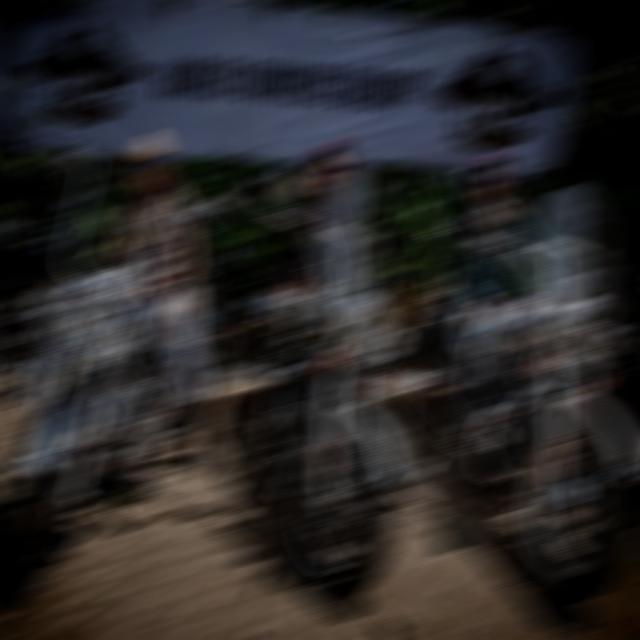Without Helmet: (458, 144, 524, 216), (119, 122, 178, 195), (306, 130, 354, 203)
